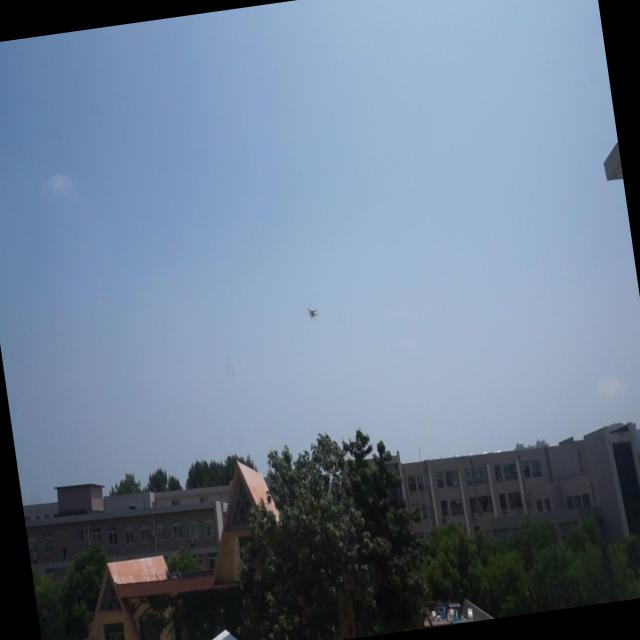drone: (304, 302, 320, 324)
